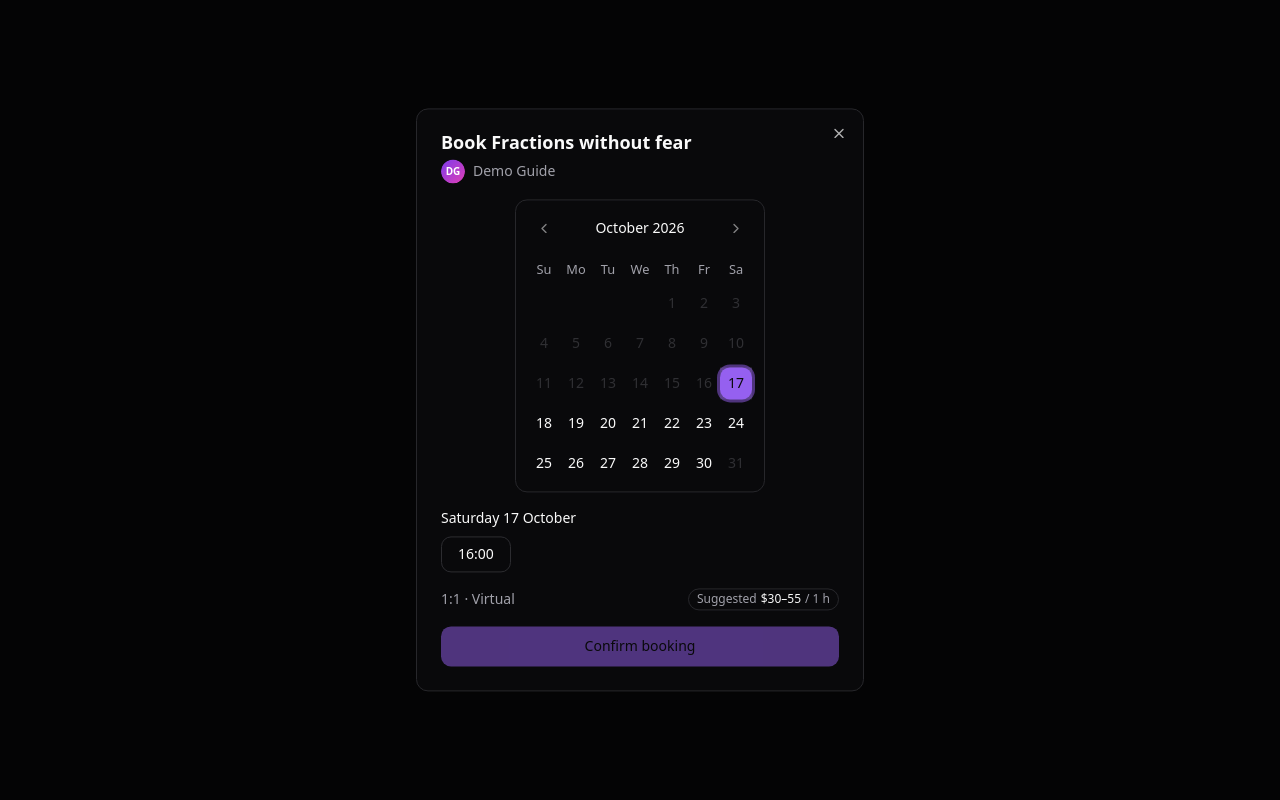
Test: BookDialog › books the first available day after picking a time
Expected: the button "Confirm booking" is disabled, [441,627,839,667]
Step 1. Click the radio button labelled "16:00" → (476, 555), box [441,537,511,573]
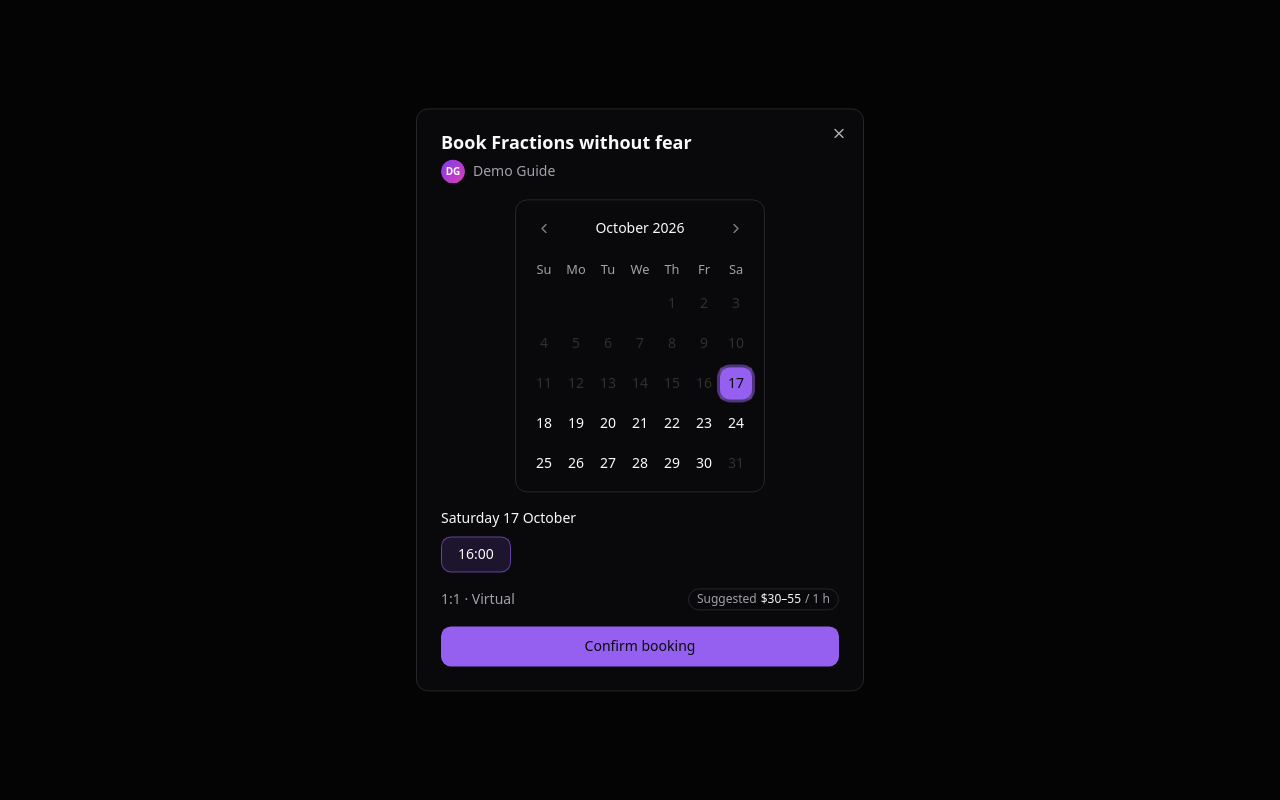
Step 2. Click the button "Confirm booking" → (640, 647), box [441,627,839,667]
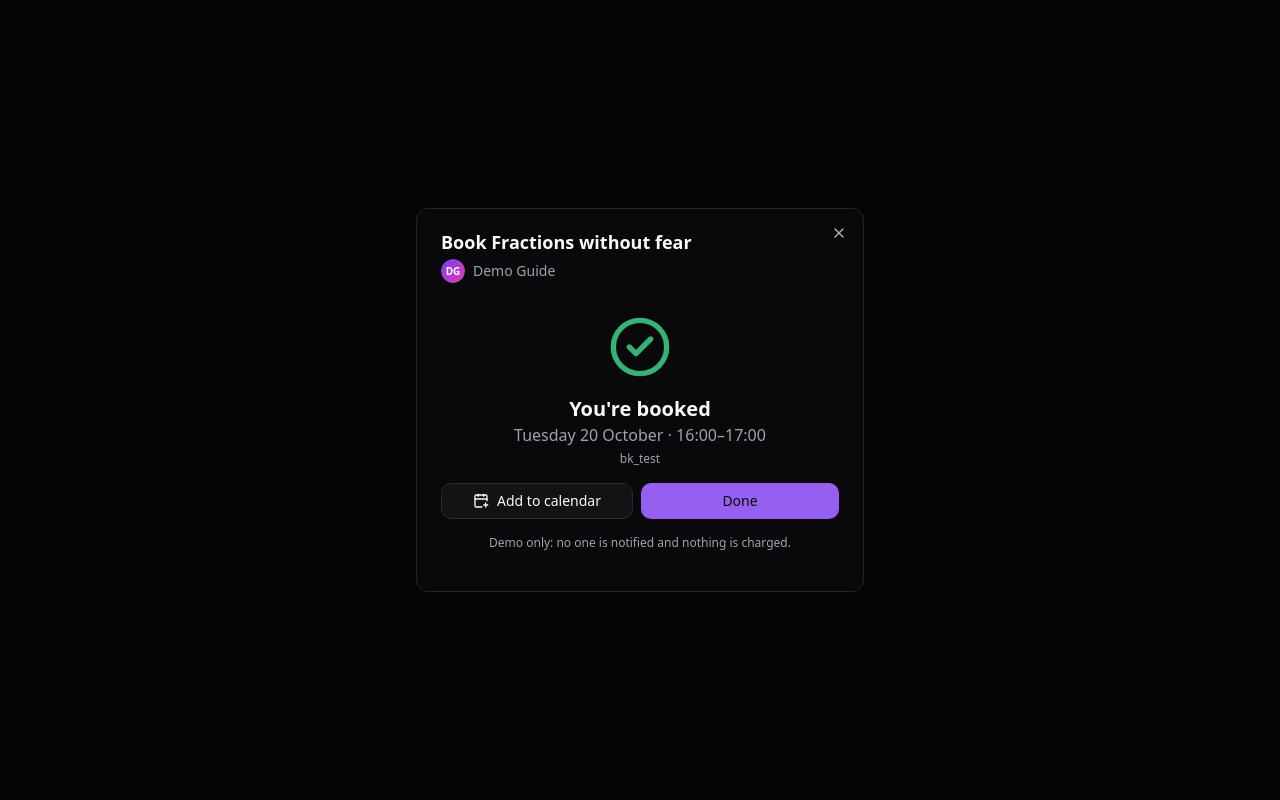
Expected: the text "You're booked" is shown, [569,395,711,422]
Expected: the text "bk_test" is shown, [620,450,660,467]
